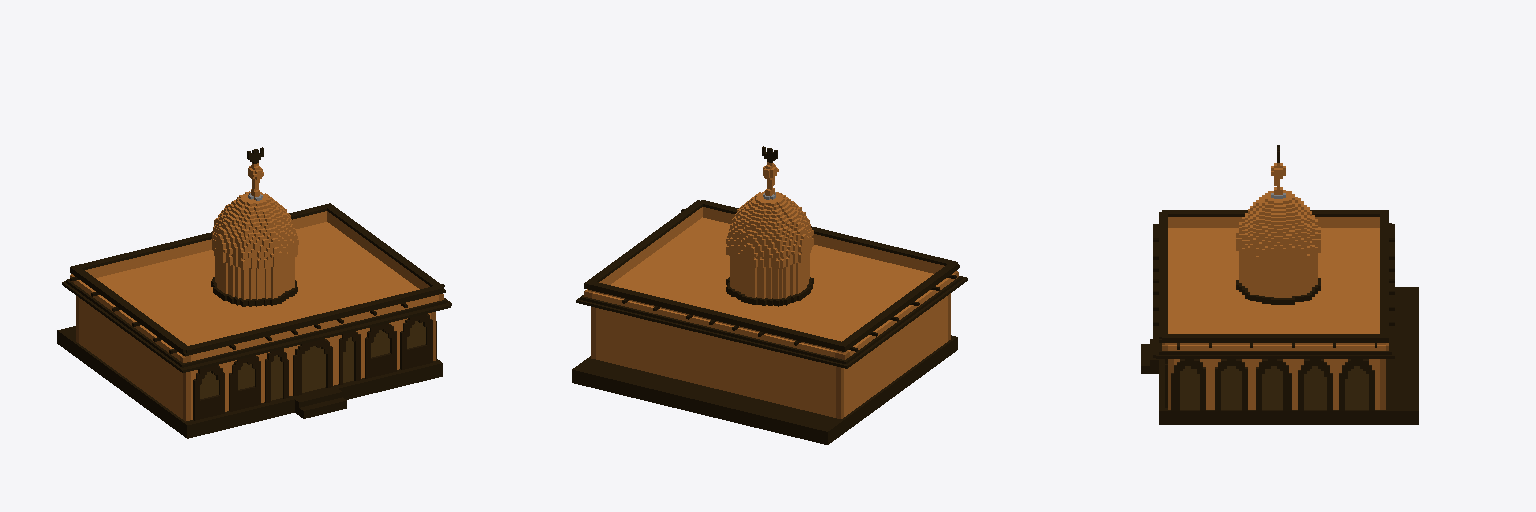
The picture shows the model from 3 angles: view 1: azimuth 30°, elevation 25°; view 2: azimuth 150°, elevation 25°; view 3: azimuth 270°, elevation 25°; orthographic projection.
Parts seen in each view (by area): view 1: object 1; view 2: object 1; view 3: object 1.
Part boxes in pixels (bbox=[...]): object 1: bbox=[57, 147, 451, 438]; object 1: bbox=[572, 146, 967, 444]; object 1: bbox=[1141, 145, 1418, 424].
Size of the model in its own units: 10.7 by 8 by 9.4.
Materials: 1 (1 with a texture image).